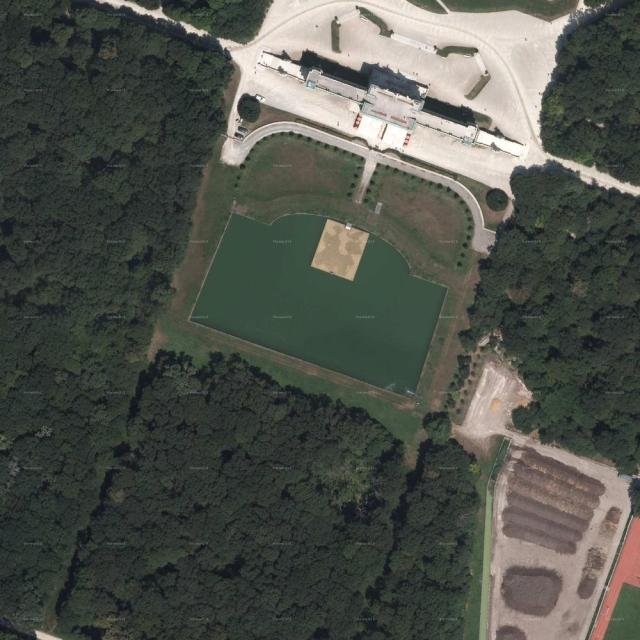building: (348, 81, 424, 158), (415, 105, 479, 145), (305, 68, 368, 104), (256, 49, 310, 83), (474, 128, 527, 158)
dryland: (214, 0, 567, 197), (488, 437, 633, 640), (452, 355, 540, 458)
greenland: (143, 108, 512, 448), (188, 185, 460, 399), (394, 550, 400, 555), (557, 299, 561, 302)
metalled_road: (218, 100, 511, 256)
